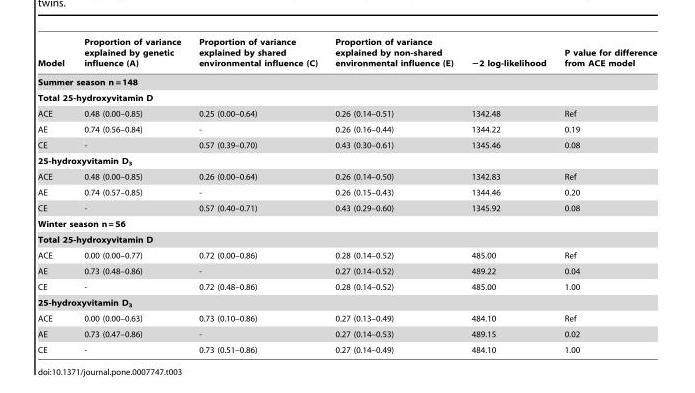table: (37, 37, 656, 354)
table column: (189, 37, 325, 354), (325, 37, 461, 354), (73, 37, 189, 354), (554, 37, 656, 354), (461, 37, 554, 354), (37, 37, 73, 354)
table column header: (37, 37, 656, 72)
table projected row header: (37, 72, 656, 89), (37, 89, 656, 105), (37, 152, 656, 168), (37, 215, 656, 231), (37, 231, 656, 247), (37, 294, 656, 310)
table row: (37, 37, 656, 72), (37, 72, 656, 89), (37, 89, 656, 105), (37, 105, 656, 121), (37, 121, 656, 137), (37, 152, 656, 168), (37, 168, 656, 184), (37, 184, 656, 200), (37, 215, 656, 231), (37, 231, 656, 247), (37, 247, 656, 263), (37, 278, 656, 294), (37, 294, 656, 310), (37, 310, 656, 326), (37, 137, 656, 152), (37, 200, 656, 215), (37, 263, 656, 278), (37, 326, 656, 341), (37, 341, 656, 354)
